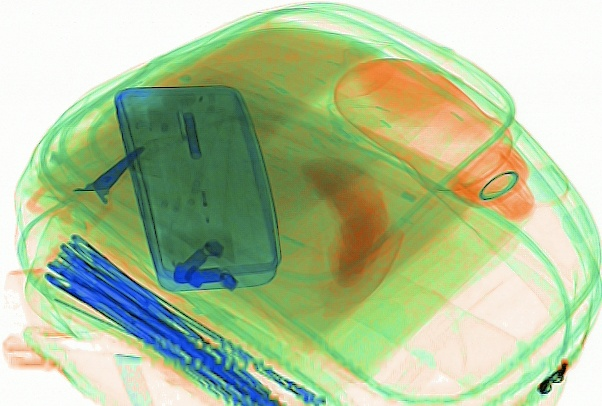scissors: (23, 145, 148, 243)
